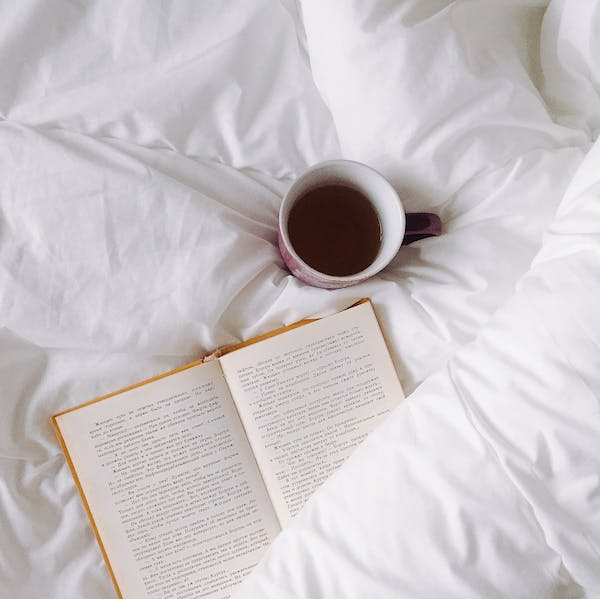book: (53, 300, 412, 599)
